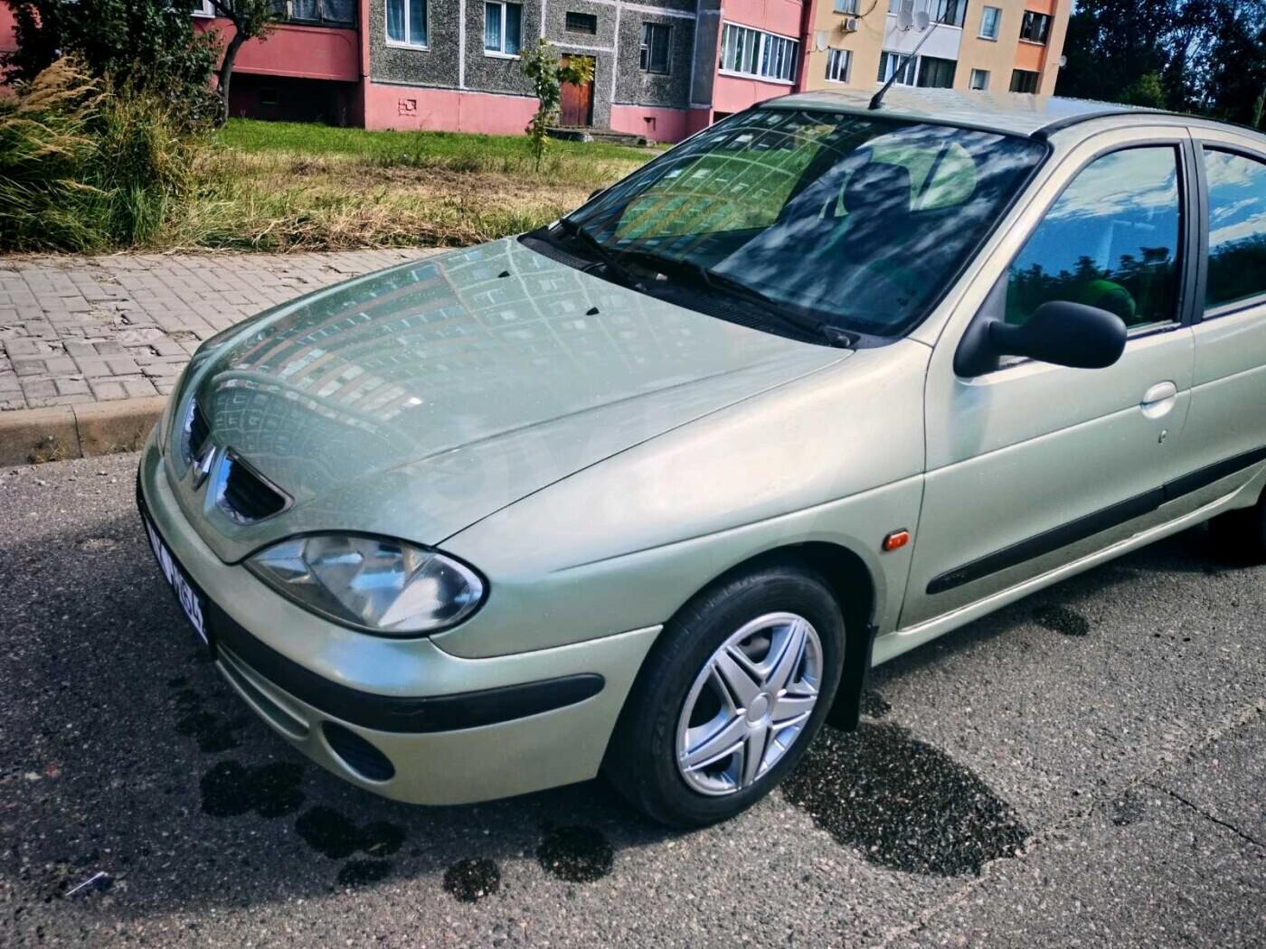Megane_1999-2003: (129, 63, 1266, 830)
